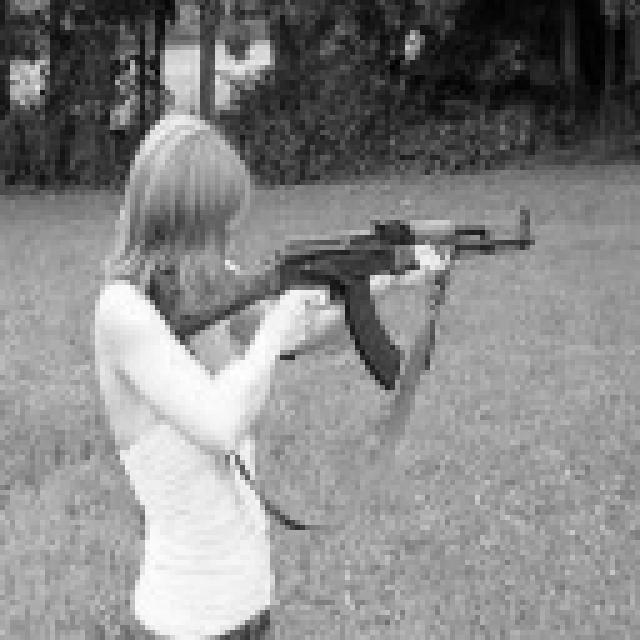Rifle: (155, 178, 552, 574)
